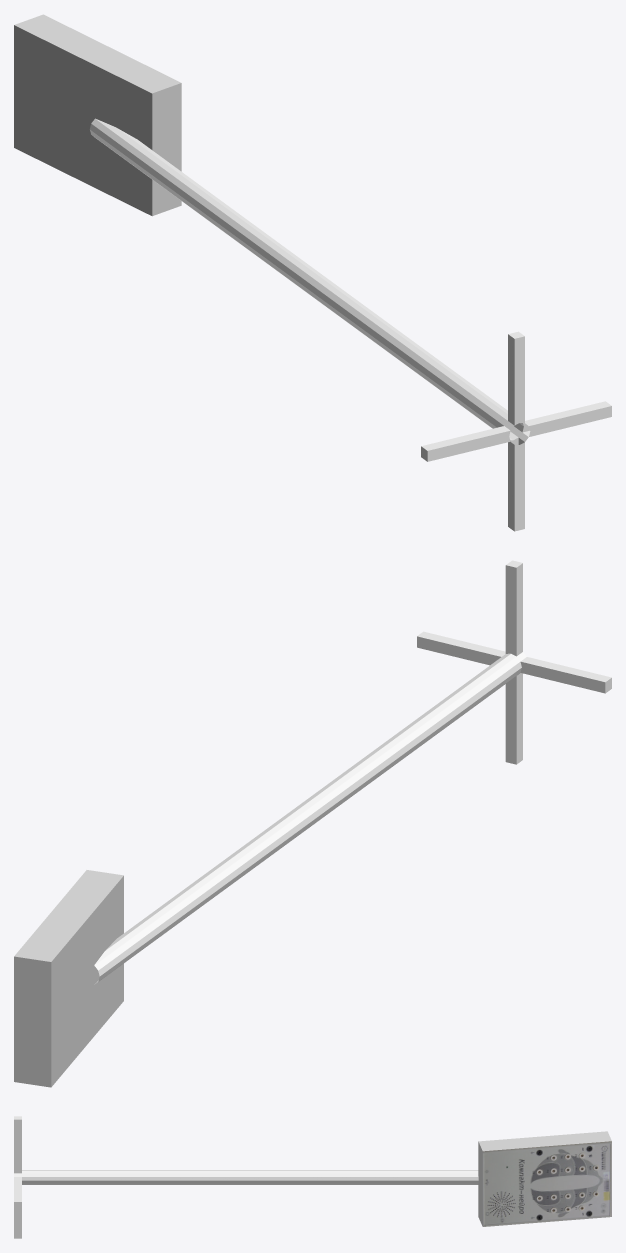
3 views of the same model, one above another, from view 1: azimuth 30°, elevation 25°; view 2: azimuth 150°, elevation 25°; view 3: azimuth 270°, elevation 25° (orthographic). The views are drawn at different scales.
Parts seen in each view (by area): view 1: Circle; view 2: Circle; view 3: Circle.
Boxes of the visible parts, <box> form: Circle: <box>14,14,611,531</box>; Circle: <box>14,560,611,1087</box>; Circle: <box>14,1116,611,1238</box>.
Size of the model in its own units: 22.01 by 21.97 by 100.
